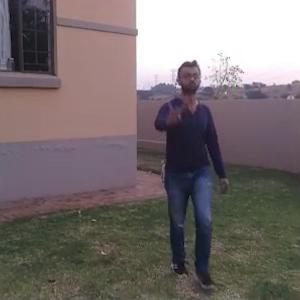takeoff-hand: (163, 97, 186, 129)
